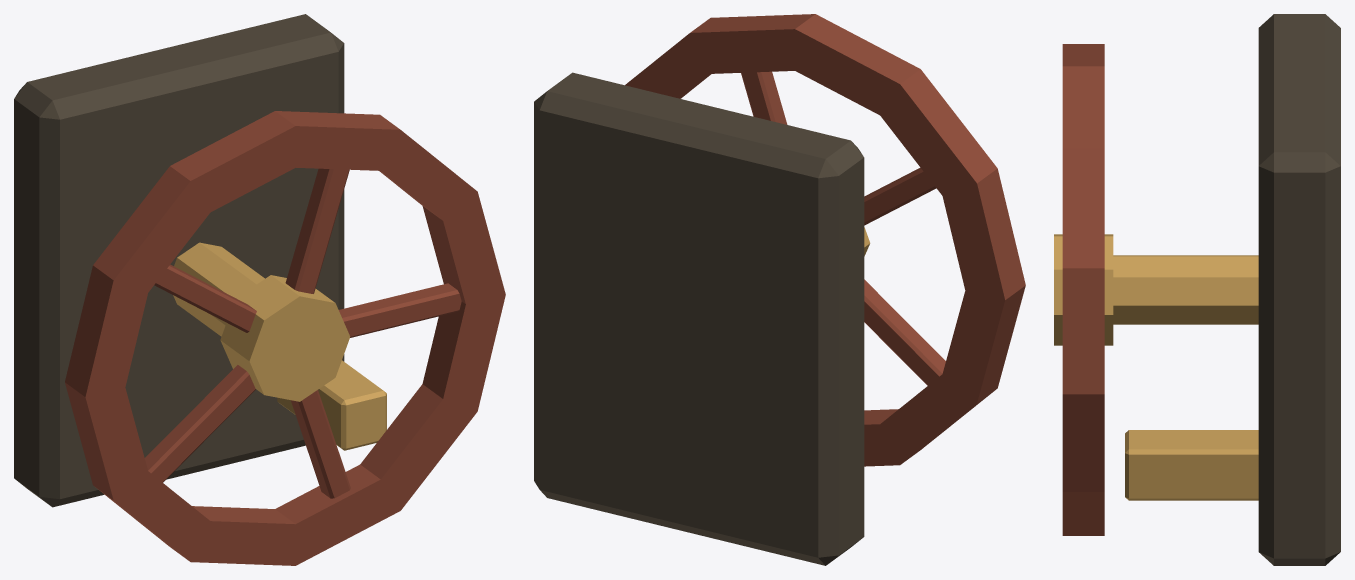
Rendered from interlock_handle.glb.
The picture shows the model from 3 angles, left to right: view 1: azimuth 30°, elevation 25°; view 2: azimuth 150°, elevation 25°; view 3: azimuth 270°, elevation 25°; orthographic projection.
Visible parts, largest first — view 1: Mount, Rim, Hub, Stop, Spoke_3, Spoke_1, Spoke_0, Spindle, Spoke_4, Spoke_2; view 2: Mount, Rim, Spoke_3, Spoke_2, Spoke_1; view 3: Mount, Rim, Spindle, Stop, Hub.
Part boxes in pixels (x1,y1,x2,y2): Mount: (14,14,344,507); Rim: (65,111,505,565); Hub: (220,275,350,401); Stop: (277,360,386,450); Spoke_3: (144,365,255,482); Spoke_1: (285,168,349,293); Spoke_0: (339,283,461,337); Spindle: (173,242,264,336); Spoke_4: (291,390,350,498); Spoke_2: (154,264,256,332); Mount: (534,72,864,565); Rim: (625,14,1025,466); Spoke_3: (864,279,945,385); Spoke_2: (864,167,936,225); Spoke_1: (741,71,787,124); Mount: (1258,14,1340,565); Rim: (1062,44,1104,535); Spindle: (1113,255,1258,324); Stop: (1125,430,1258,500); Hub: (1054,234,1113,345).
Size of the model in its own units: 0.48 by 0.48 by 0.2788.
